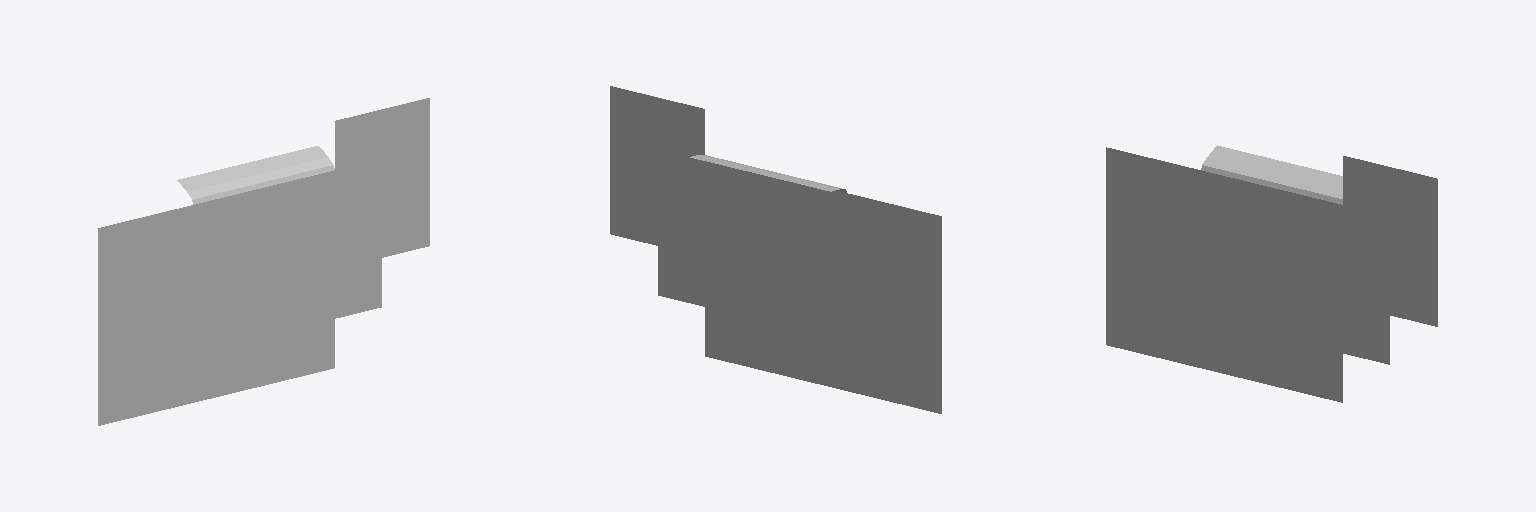
Rendered from Stonetalon - Taxi lake.wlw.obj.
3 renders of one model, left to right at view 1: azimuth 30°, elevation 25°; view 2: azimuth 150°, elevation 25°; view 3: azimuth 330°, elevation 25°, orthographic.
Bounding box in the file's own units: 175 × 125 × 14.75.